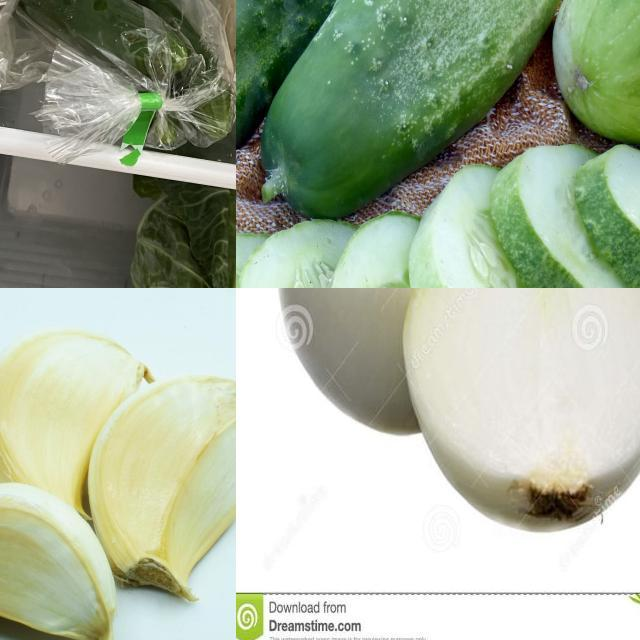cabbage: (93, 179, 237, 289)
cucumber: (252, 1, 583, 211), (237, 1, 358, 215), (544, 1, 640, 148)
garlic: (88, 376, 237, 612), (1, 327, 158, 538), (1, 476, 131, 640)
onion: (406, 289, 640, 531), (279, 289, 533, 435)
